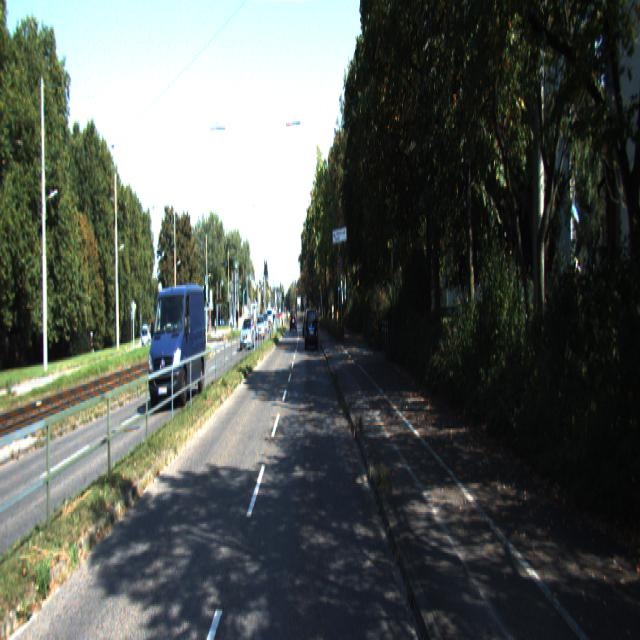Car: (148, 277, 207, 412), (306, 307, 319, 352), (241, 318, 255, 352)
